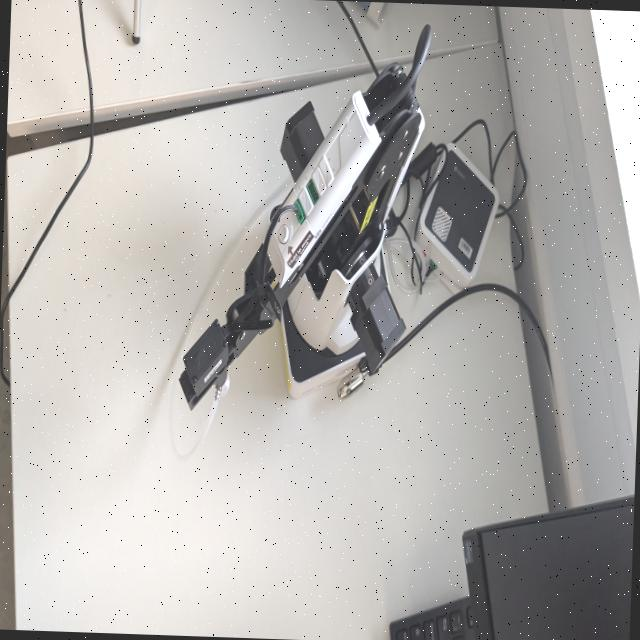Robot-end-effector-HF8z: (176, 316, 234, 430)
